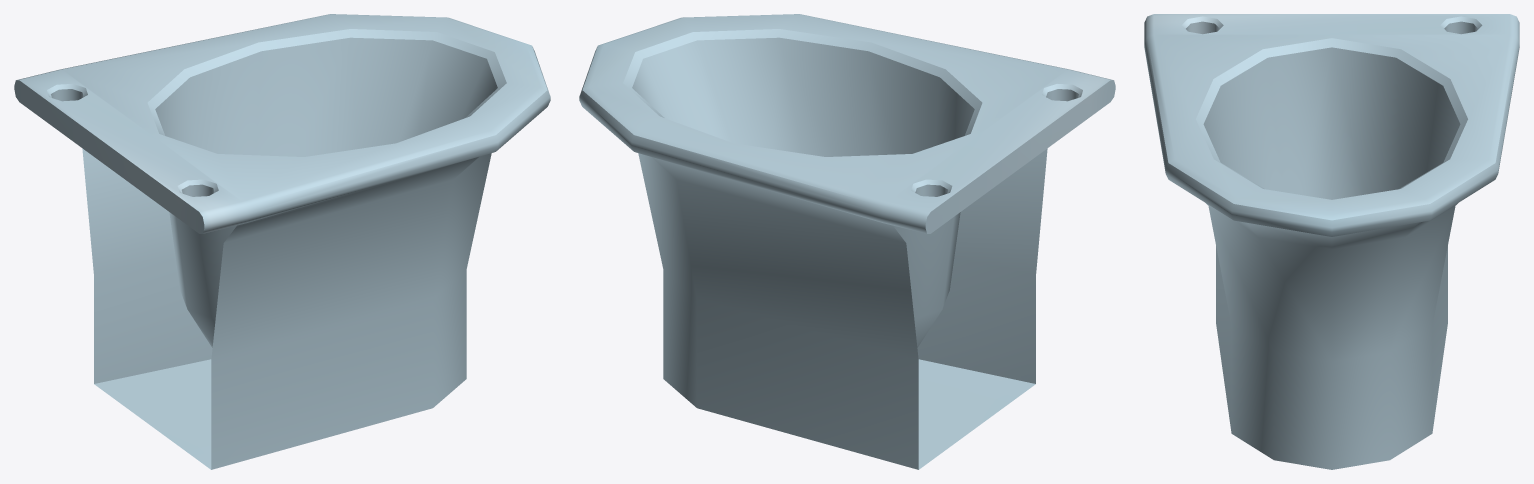
Rendered from cesso.fbx.
The picture shows the model from 3 angles, left to right: view 1: azimuth 30°, elevation 25°; view 2: azimuth 150°, elevation 25°; view 3: azimuth 270°, elevation 25°; orthographic projection.
Visible parts, largest first — view 1: Cesso; view 2: Cesso; view 3: Cesso.
Part boxes in pixels (bbox=[...]): Cesso: bbox=[14, 14, 550, 469]; Cesso: bbox=[579, 14, 1115, 469]; Cesso: bbox=[1144, 14, 1519, 469].
Bounding box in the file's own units: 10.36 × 6.78 × 8.
